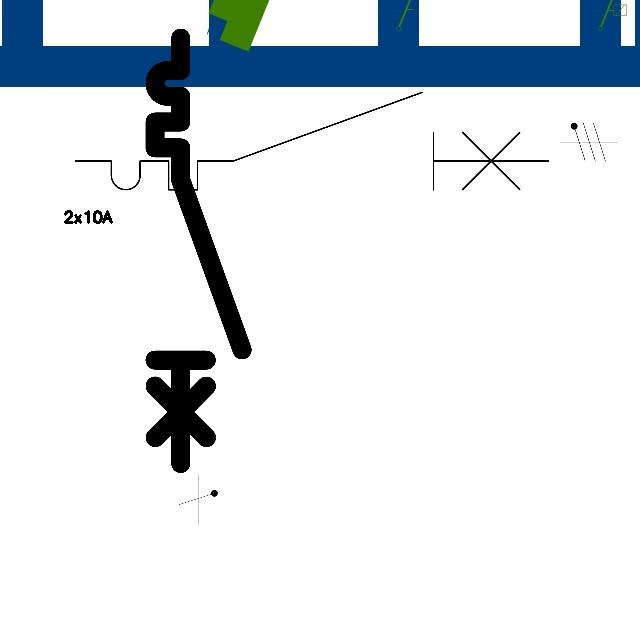interruptor_termomagnetico: (63, 80, 561, 202), (144, 27, 253, 474)
